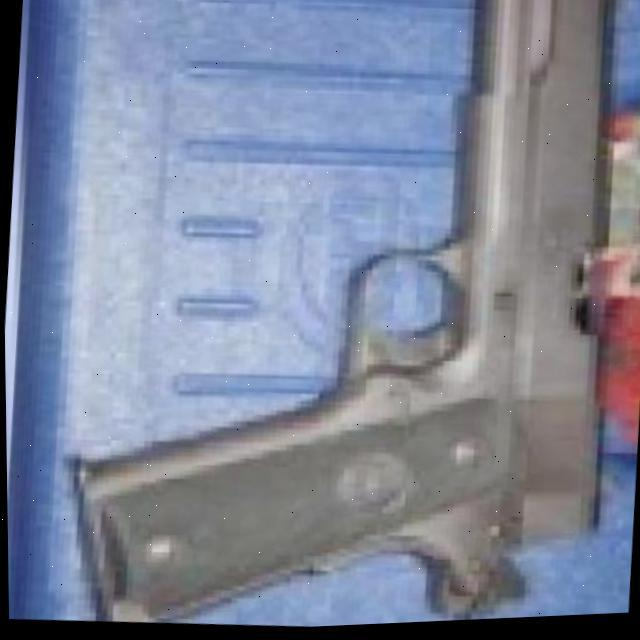gun: (32, 0, 634, 639)
